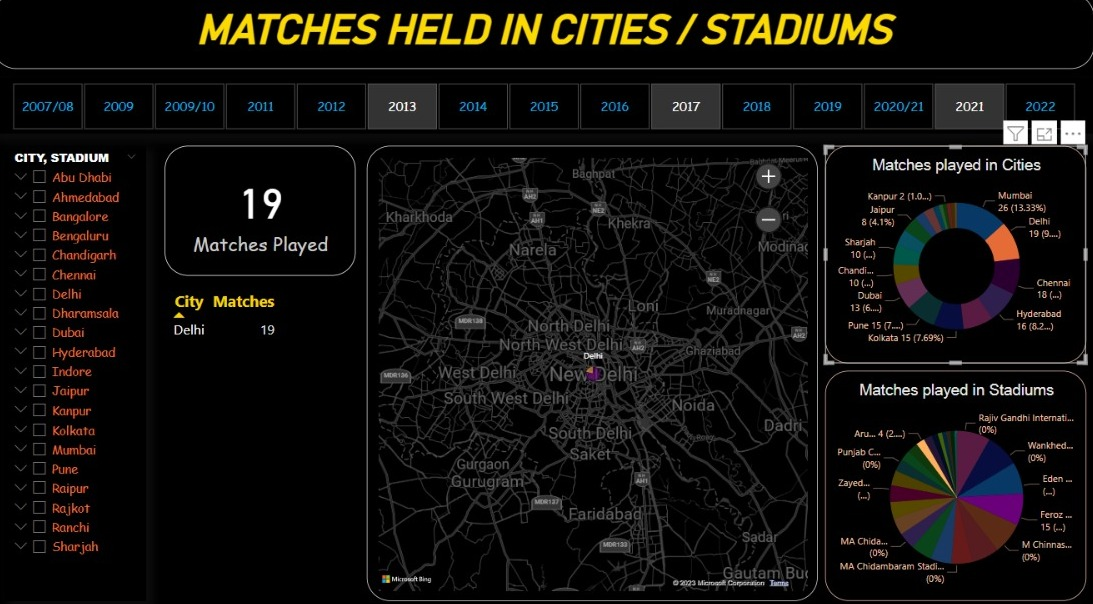

The page's visual inventory and layout, read from the dashboard file:
{"tool":"powerbi","page":{"name":"Cities & Stadiums","canvas":[1420,800],"ordinal":1},"visuals":[{"type":"slicer","fields":{"Values":["VENUE SEASONAL.City","VENUE SEASONAL.Venue"]},"box":[14.7,195.6,182.2,585.6],"z":0},{"type":"textbox","box":[0,0,1416.4,96.5],"z":1000},{"type":"slicer","fields":{"Values":["VENUE SEASONAL.Season"]},"box":[0,108.5,1416.4,72.4],"z":2000},{"type":"card","fields":{"Values":["Sum(VENUE SEASONAL.Matches Played)"]},"box":[221.1,195.6,245.2,167.5],"z":3000},{"type":"pivotTable","fields":{"Rows":["VENUE SEASONAL.City"],"Values":["Sum(VENUE SEASONAL.Matches Played)"]},"box":[222.4,376.5,243.9,404.7],"z":4000},{"type":"pieChart","title":"Matches played in Stadiums","fields":{"Category":["VENUE SEASONAL.Venue"],"Y":["Sum(VENUE SEASONAL.Matches Played)"]},"box":[1070.7,485.1,336.3,296.1],"z":5000},{"type":"donutChart","title":"Matches played in Cities","fields":{"Category":["VENUE SEASONAL.City"],"Y":["VENUE SEASONAL.Matches Played running total in Matches Played"]},"box":[1070.7,195.6,336.3,280.1],"z":6000},{"type":"map","fields":{"Category":["VENUE SEASONAL.City","VENUE SEASONAL.Venue"],"Series":["VENUE SEASONAL.Venue"],"Size":["Sum(VENUE SEASONAL.Matches Played)"]},"box":[481.1,195.6,580.2,585.6],"z":7000}]}

Visuals, with their boxes in screenshot pixels (x1, y1, x2, y2), scaled from the page's 1420x800 canvas onto the 1093x604 screenshot:
slicer - VENUE SEASONAL.City x VENUE SEASONAL.Venue: (11, 148, 152, 590)
textbox: (0, 0, 1090, 73)
slicer - VENUE SEASONAL.Season: (0, 82, 1090, 137)
card - Sum(VENUE SEASONAL.Matches Played): (170, 148, 359, 274)
pivotTable - VENUE SEASONAL.City x Sum(VENUE SEASONAL.Matches Played): (171, 284, 359, 590)
"Matches played in Stadiums" pieChart: (824, 366, 1083, 590)
"Matches played in Cities" donutChart: (824, 148, 1083, 359)
map - VENUE SEASONAL.City x VENUE SEASONAL.Venue: (370, 148, 817, 590)
